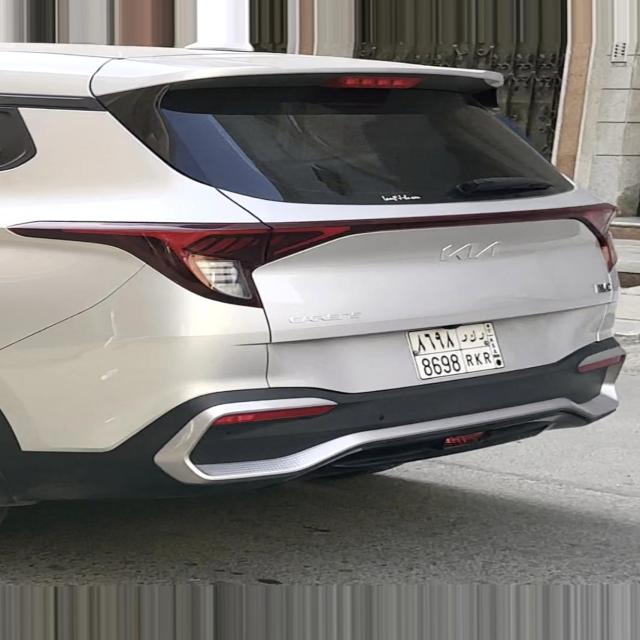Car-plate: (398, 312, 523, 385)
